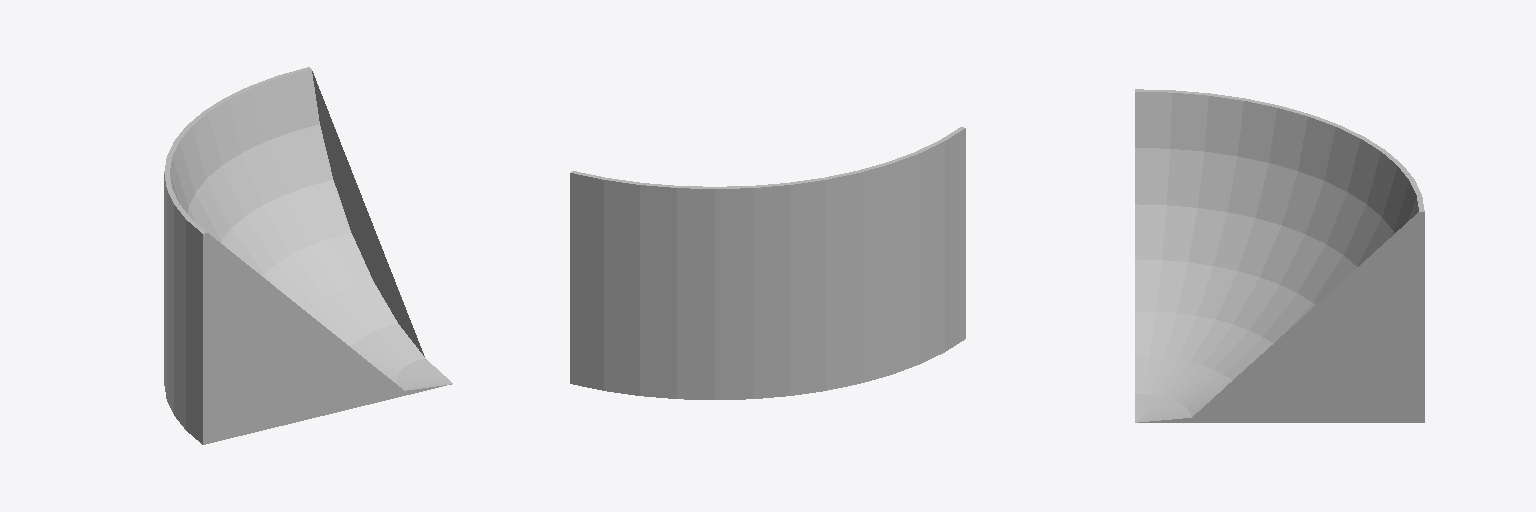
File: quarter-pipe-turn-tight.obj
The picture shows the model from 3 angles: view 1: azimuth 30°, elevation 25°; view 2: azimuth 150°, elevation 25°; view 3: azimuth 270°, elevation 25°; orthographic projection.
Parts seen in each view (by area): view 1: quarter-pipe-turn-tight; view 2: quarter-pipe-turn-tight; view 3: quarter-pipe-turn-tight.
Boxes of the visible parts, box(x1,y1,x2,y2) form: quarter-pipe-turn-tight: box(164, 67, 452, 444); quarter-pipe-turn-tight: box(570, 127, 965, 399); quarter-pipe-turn-tight: box(1135, 89, 1424, 422).
Bounding box in the file's own units: 1 × 0.8049 × 1.